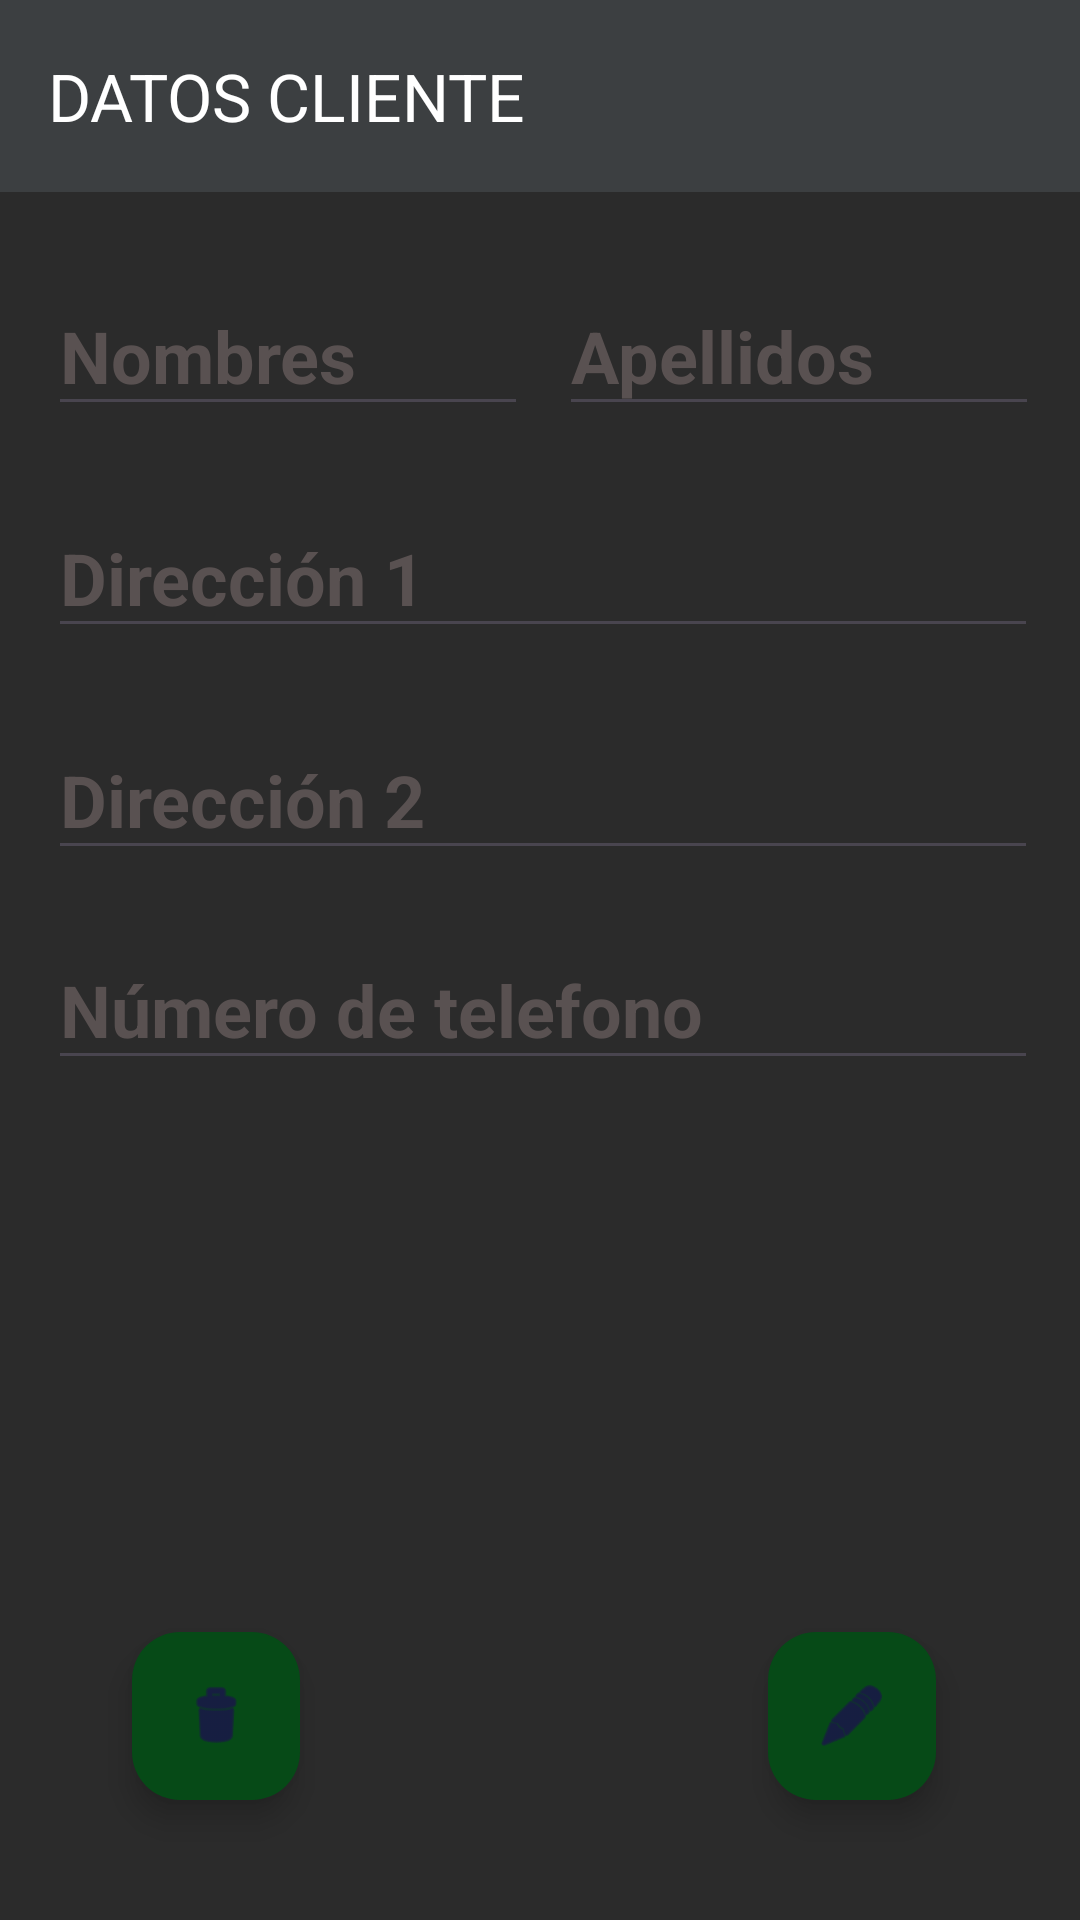

Screen size 1080px x 1920px. Icon name, then its box in pixels as BBox(x1, y1, x2, y2):
delete: BBox(132, 1632, 300, 1800)
edit: BBox(768, 1632, 936, 1800)
